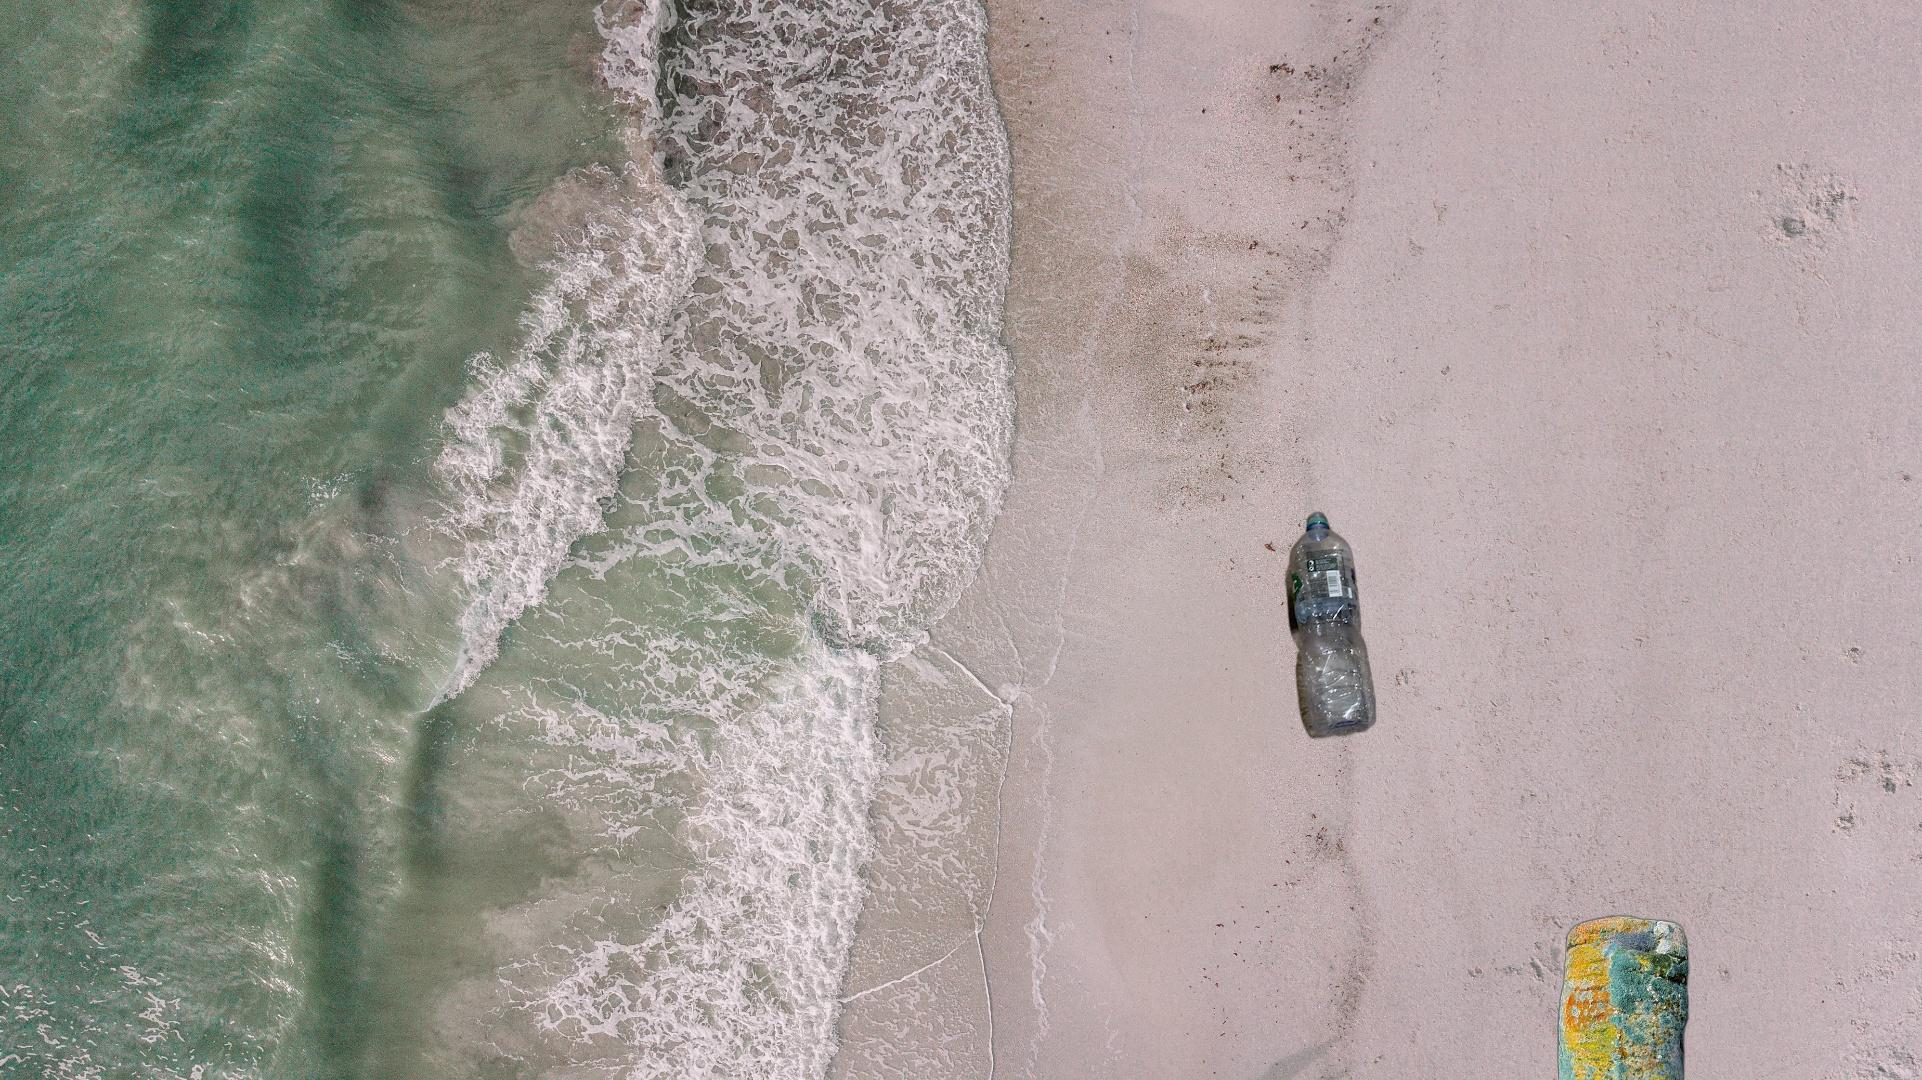biological: (1554, 912, 1694, 1080)
plastic-bottles: (1283, 508, 1379, 742)
